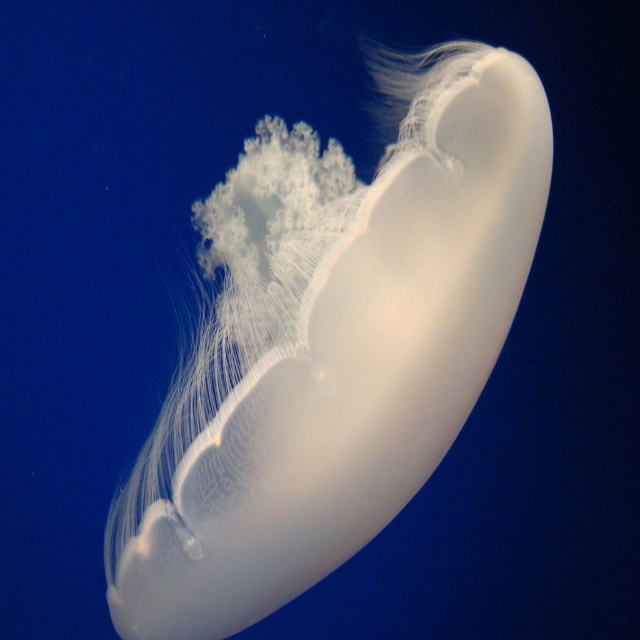Jellyfish: (105, 0, 566, 640)
